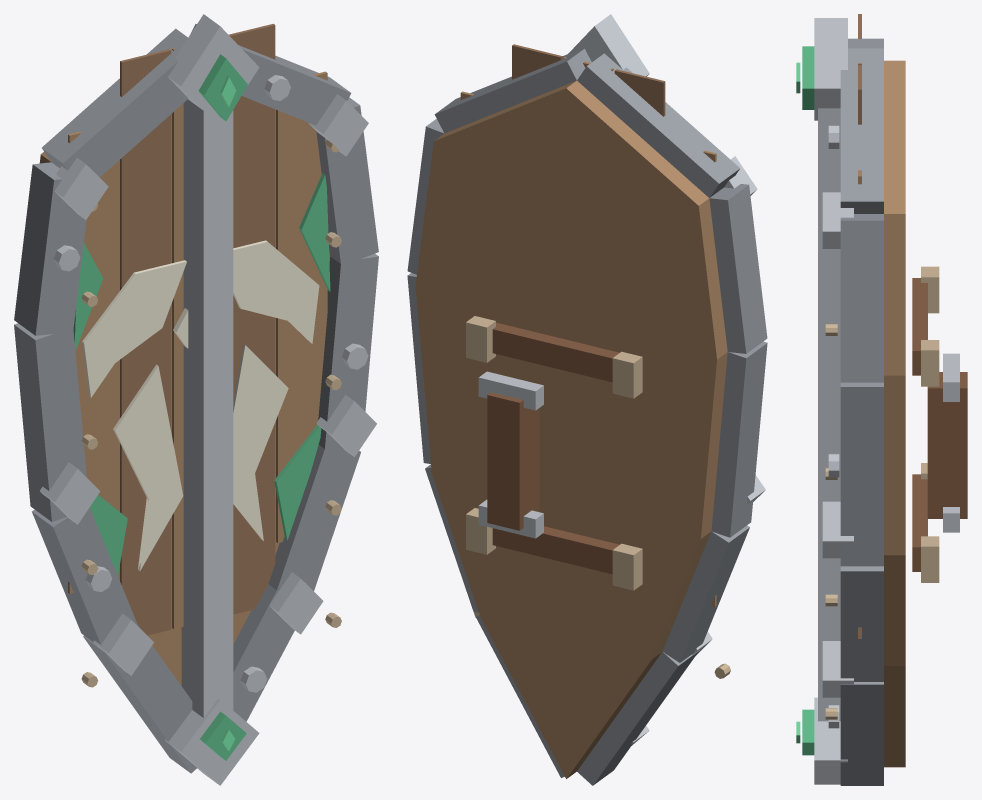
Rendered from nexgame_kite_shield_quality.glb.
3 views of the same model, side by side, from view 1: azimuth 30°, elevation 25°; view 2: azimuth 150°, elevation 25°; view 3: azimuth 270°, elevation 25° (orthographic). The views are drawn at different scales.
Parts seen in each view (by area): view 1: iron, steel, darkWood, wood, bone, emerald, trim; view 2: wood, iron, leather, steel, trim, darkWood; view 3: iron, steel, wood, leather, trim, emerald, darkWood.
Part boxes in pixels (box(x1,y1,x2,y2)): iron: box(14, 24, 378, 773); steel: box(40, 14, 376, 785); darkWood: box(120, 23, 275, 635); wood: box(39, 48, 330, 685); bone: box(82, 240, 319, 570); emerald: box(73, 54, 330, 760); trim: box(81, 140, 341, 687); wood: box(415, 57, 727, 778); iron: box(407, 48, 767, 785); leather: box(487, 322, 619, 574); steel: box(478, 14, 765, 745); trim: box(466, 316, 730, 678); darkWood: box(512, 44, 665, 116); iron: box(840, 38, 883, 785); steel: box(814, 18, 959, 784); wood: box(858, 60, 905, 767); leather: box(912, 278, 967, 571); trim: box(825, 266, 939, 719); emerald: box(802, 46, 814, 755); darkWood: box(858, 14, 861, 124).
Bounding box in the file's own units: 0.8316 × 1.76 × 0.3555.
